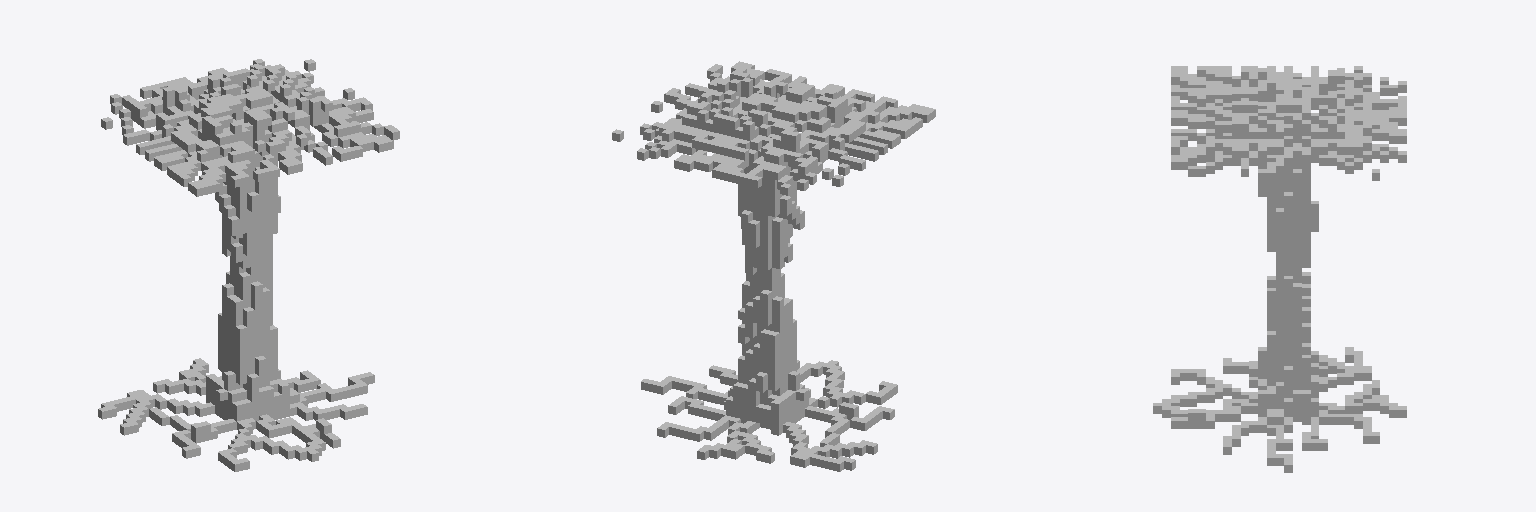
File: tree.obj
3 views of the same model, side by side, from view 1: azimuth 30°, elevation 25°; view 2: azimuth 150°, elevation 25°; view 3: azimuth 270°, elevation 25° (orthographic).
Visible parts, largest first — view 1: object 1; view 2: object 1; view 3: object 1.
Part boxes in pixels (bbox=[...]): object 1: bbox=[98, 59, 399, 471]; object 1: bbox=[612, 61, 935, 471]; object 1: bbox=[1153, 66, 1406, 472].
Size of the model in its own units: 3.2 by 4 by 2.9.